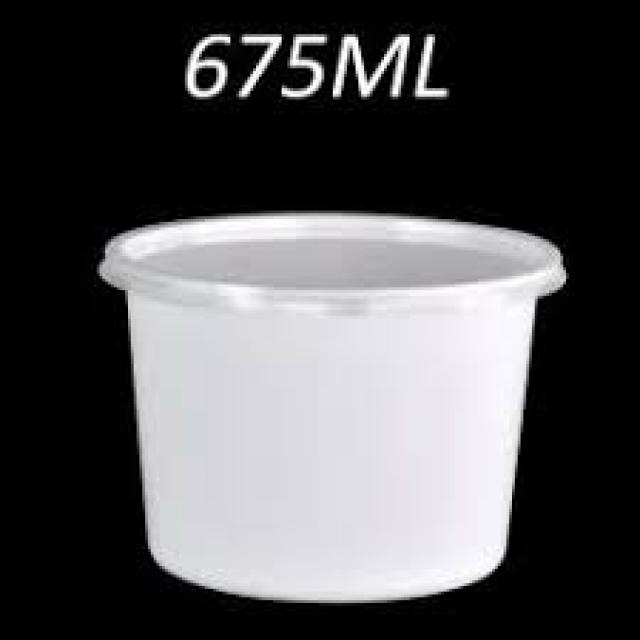disposable: (89, 195, 592, 619)
